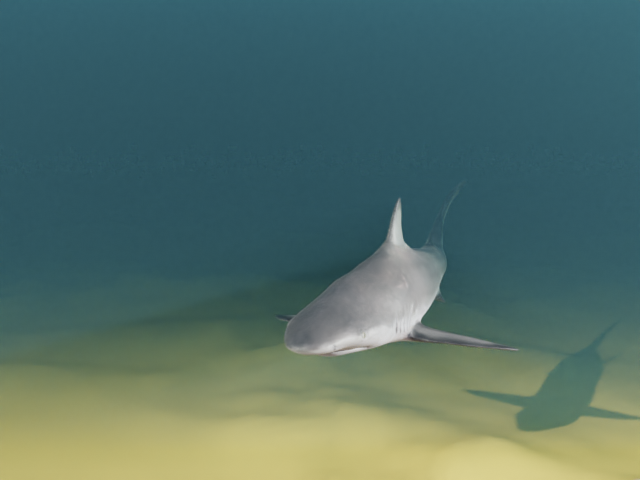Carribean Shark.001: (274, 180, 518, 356)
